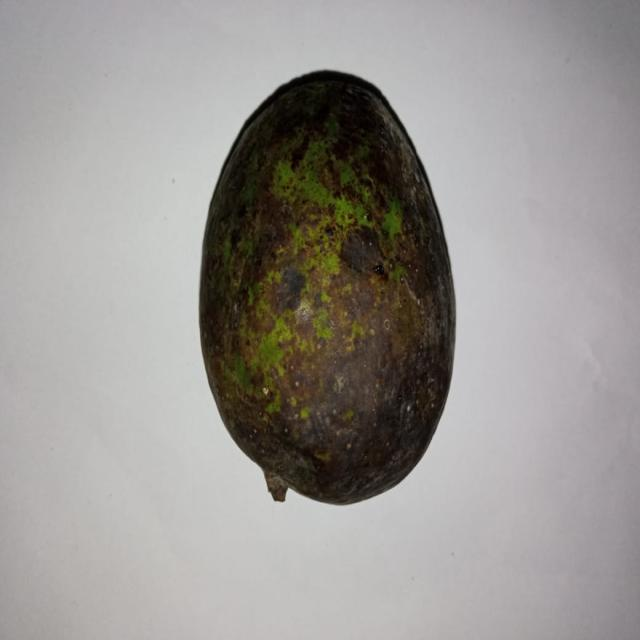rotten_mango: (197, 68, 454, 508)
